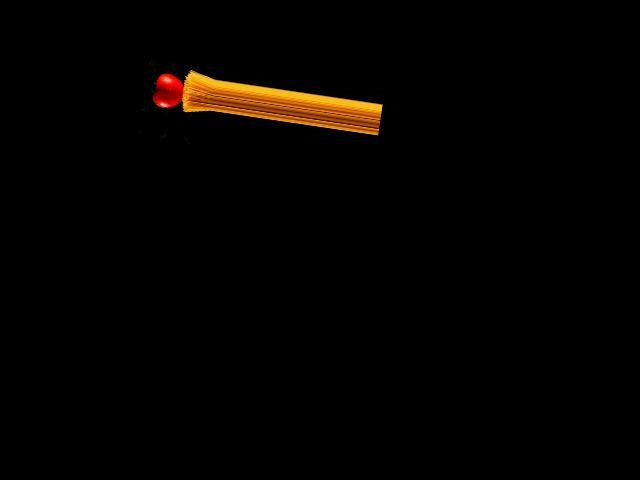tomato: (151, 71, 185, 109)
